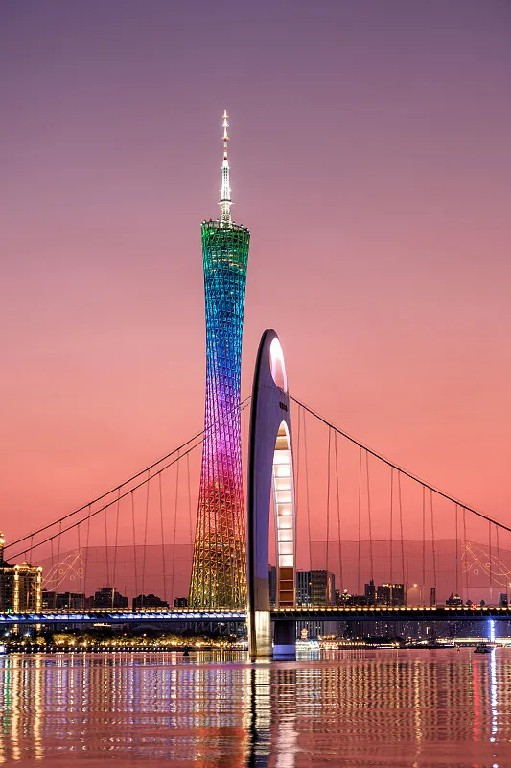Canton: (186, 108, 257, 609)
